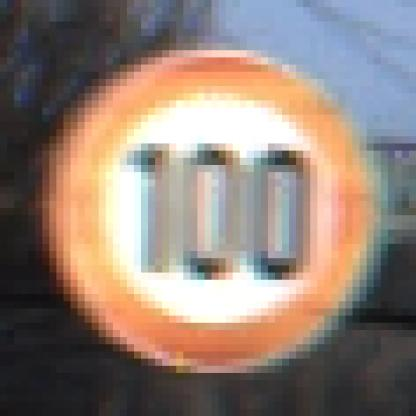Speed Limit 100: (68, 56, 368, 373)
